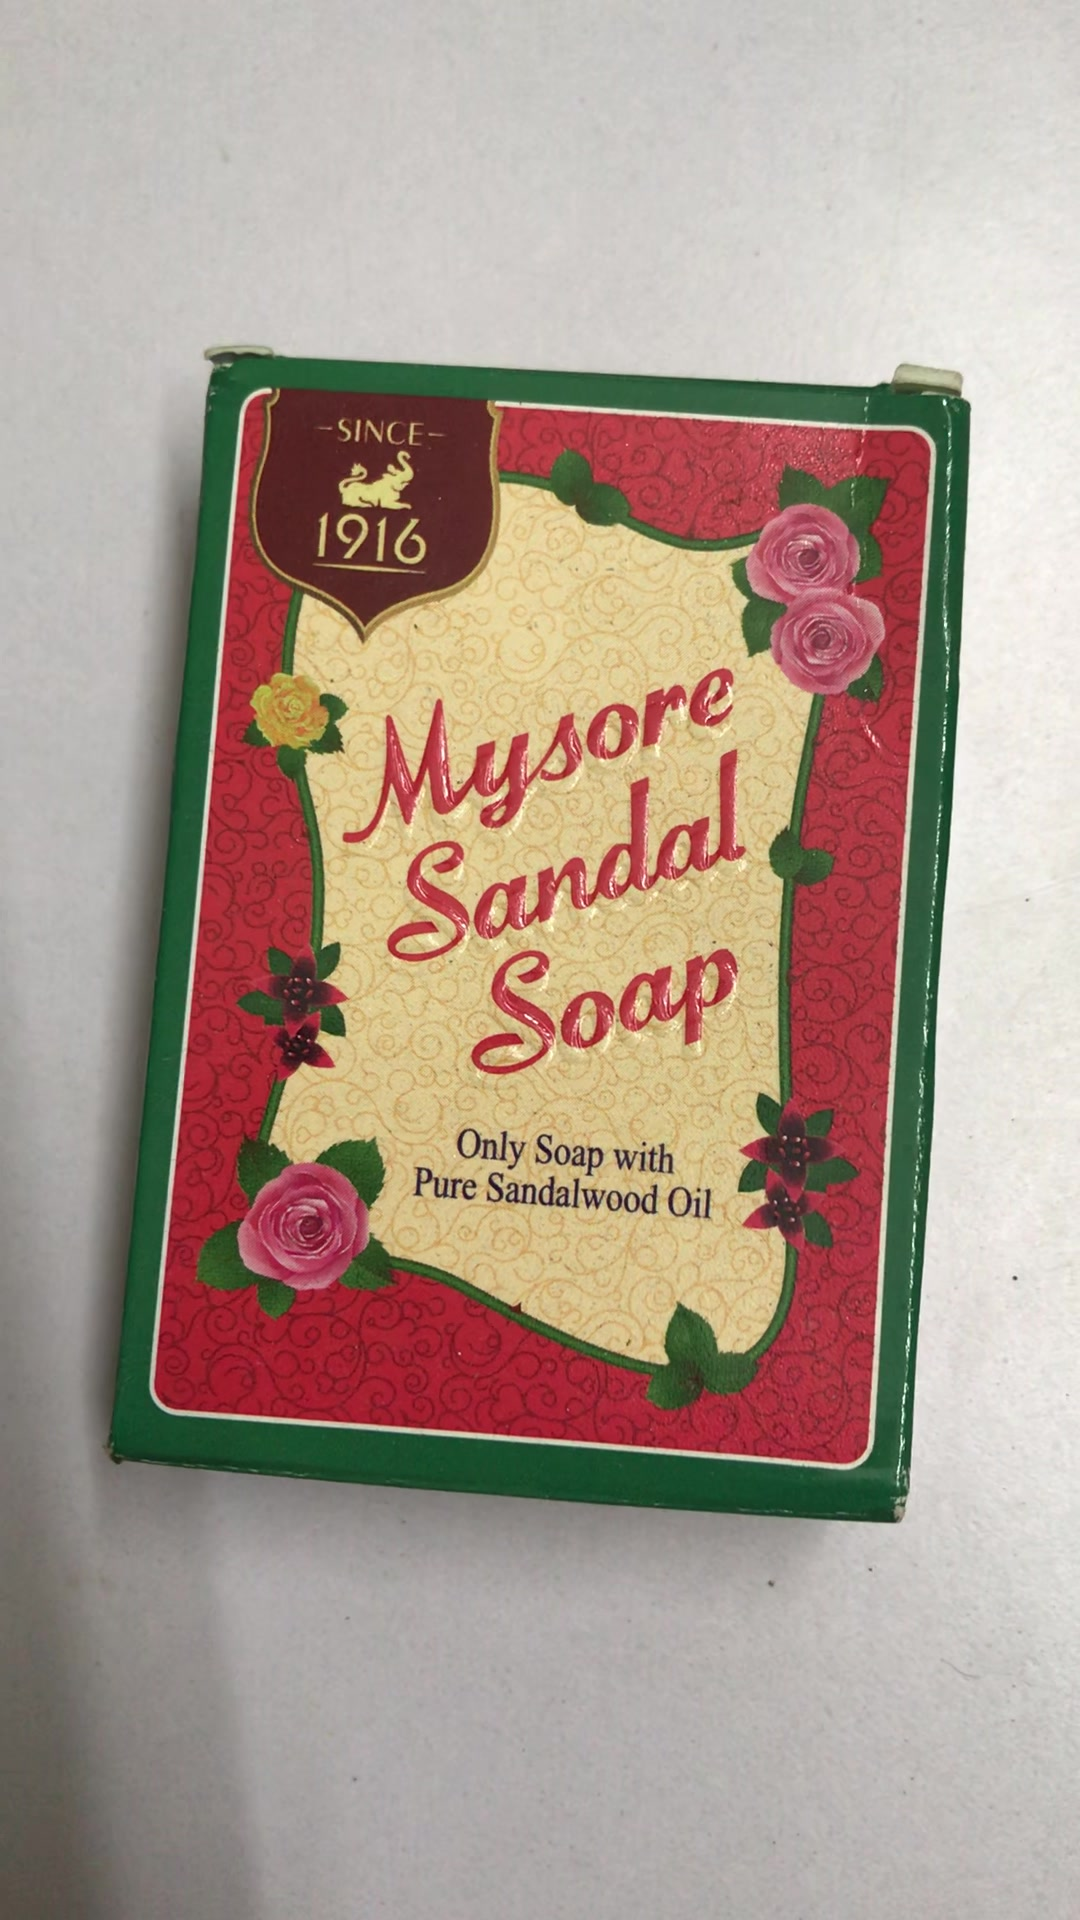mysore sandal soap: (109, 349, 972, 1531)
